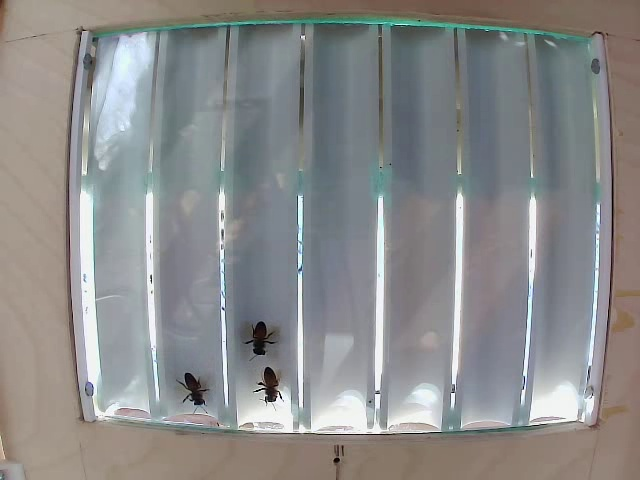bee: (244, 311, 283, 350), (175, 368, 209, 406), (253, 366, 291, 395)
